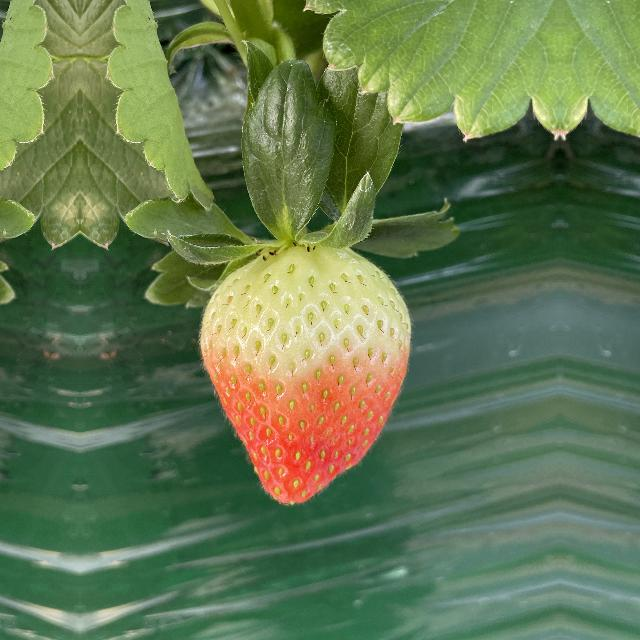Health_75: (194, 237, 423, 507)
